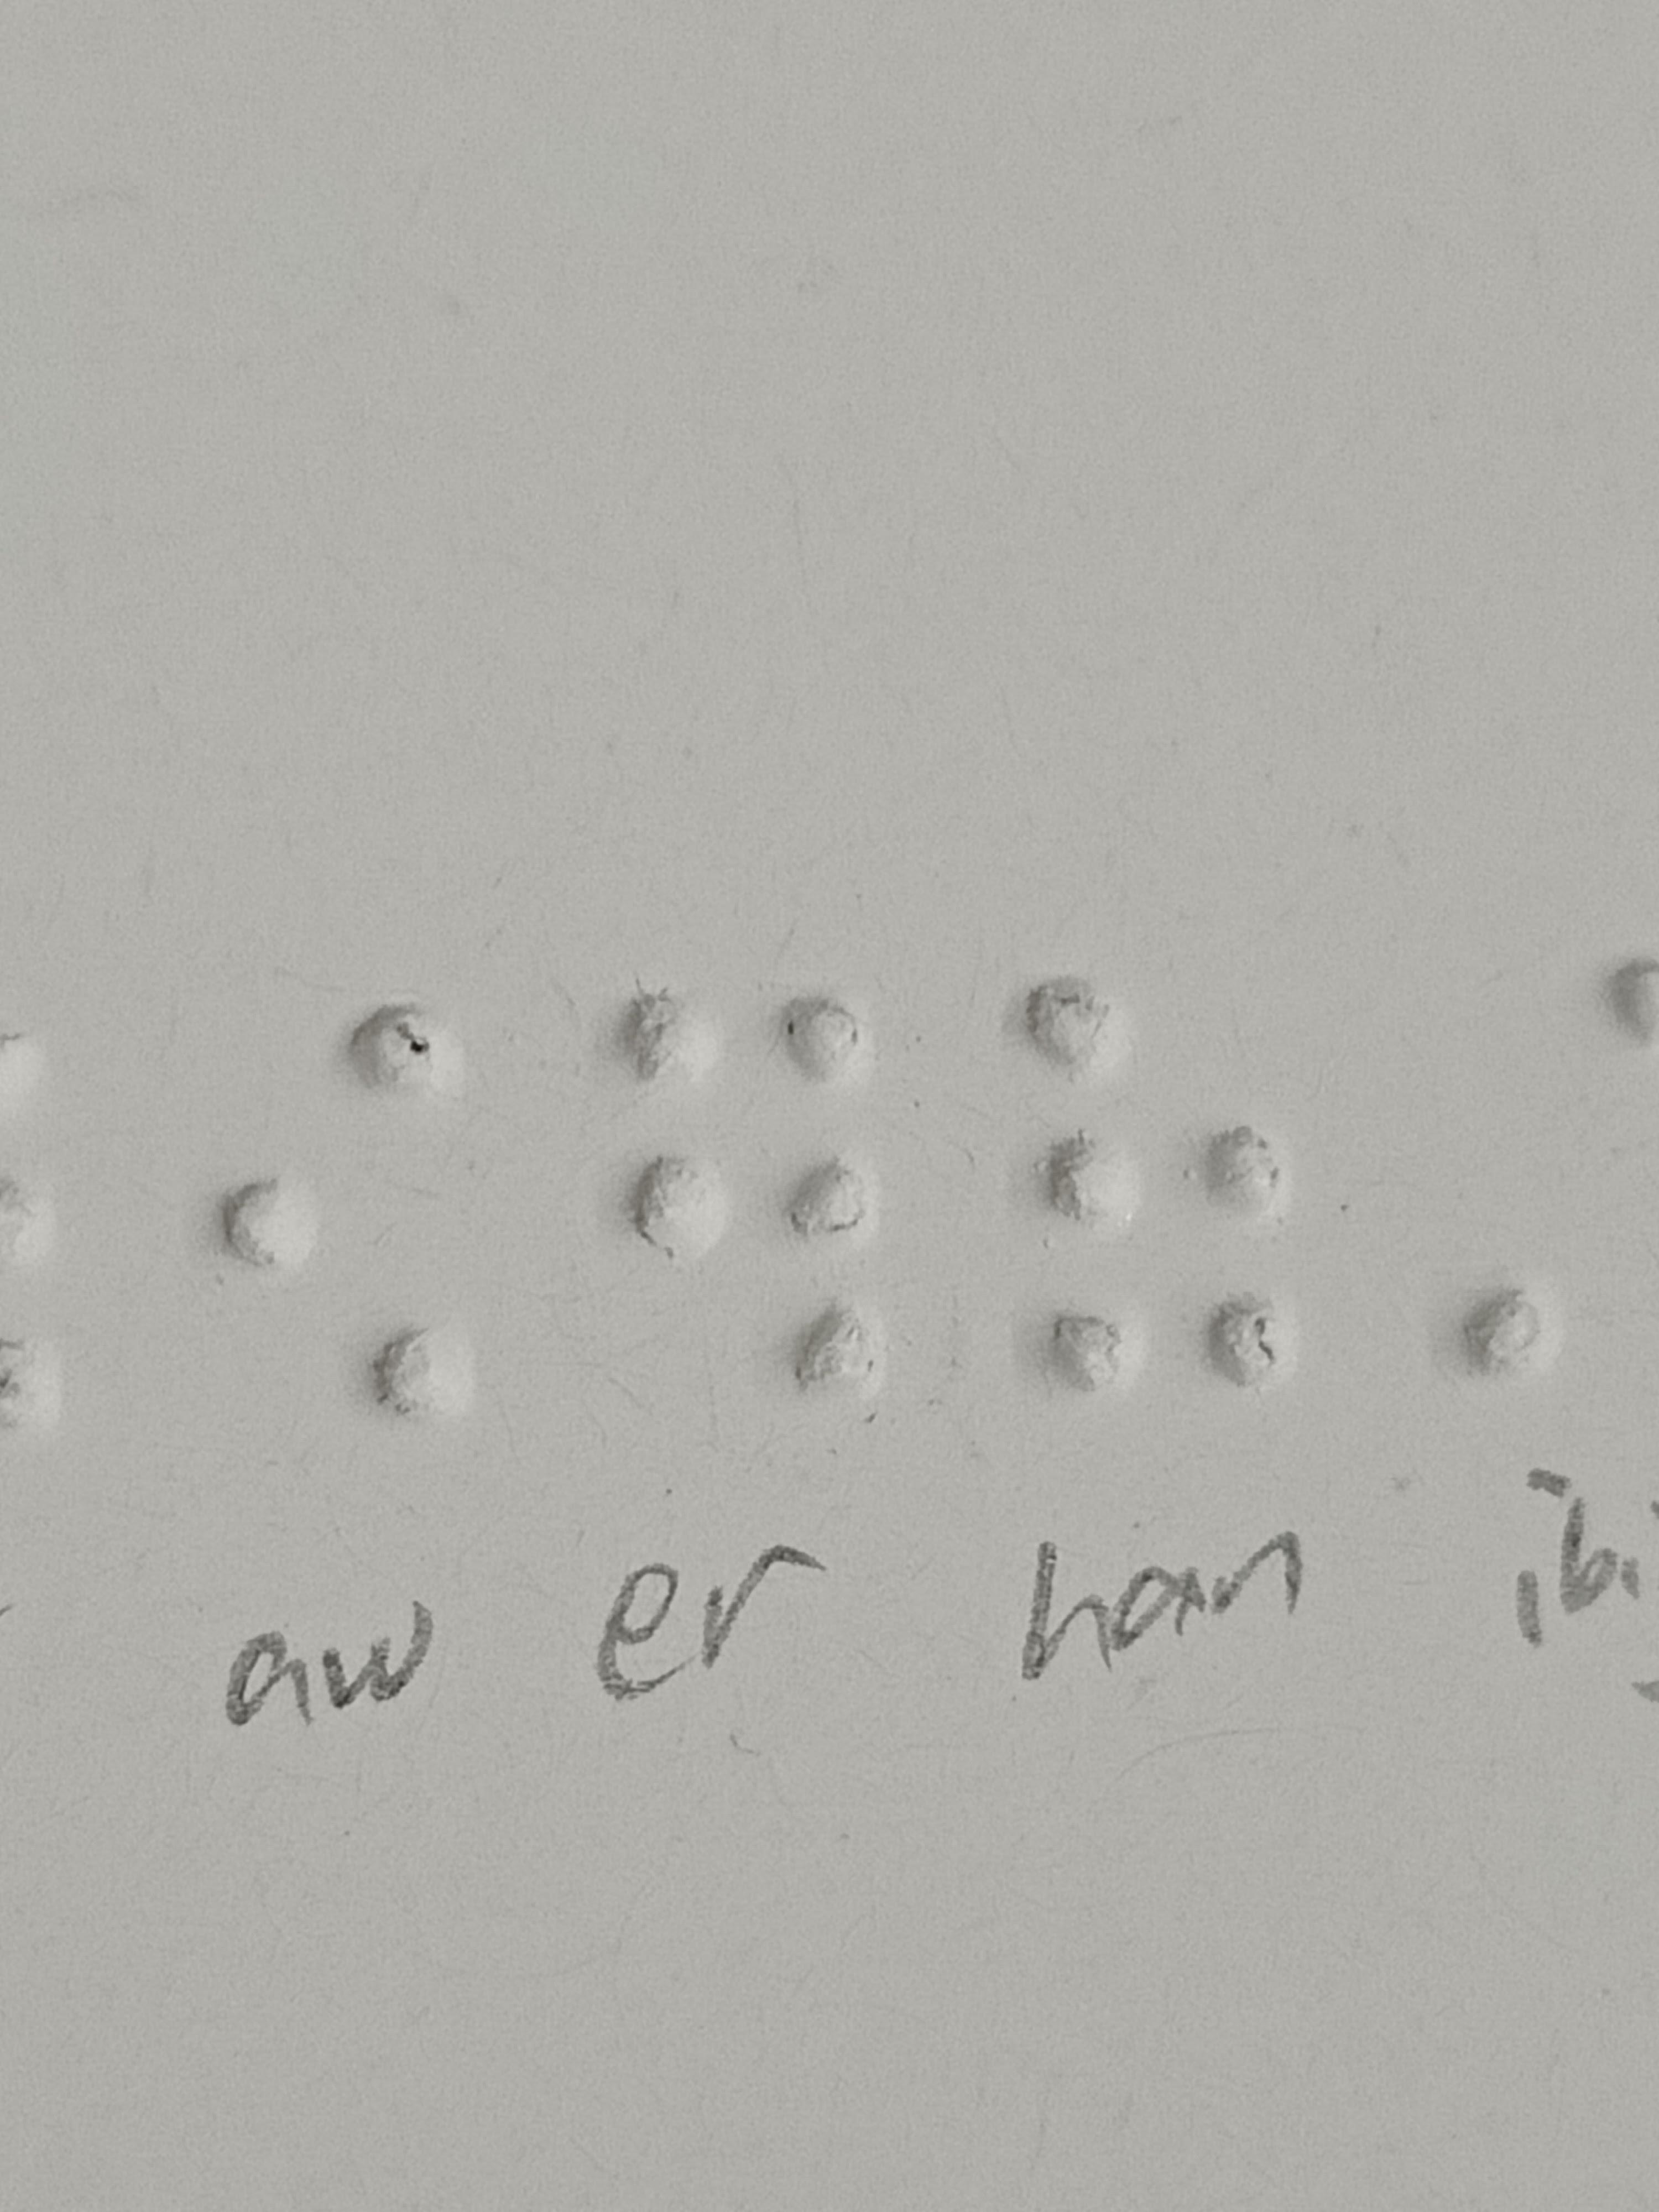one_cell_part_word_aw: (204, 991, 469, 1428)
one_cell_part_word_er: (620, 974, 885, 1432)
one_cell_part_word_han: (1012, 963, 1283, 1406)
